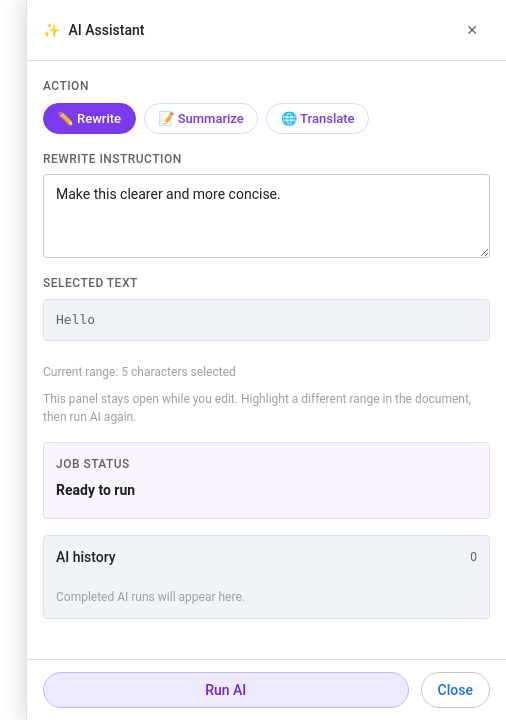
Test: AiPanel › cancels an active stream without applying anything
Click the button with test id "ai-run": [226, 690] box [43, 672, 409, 708]
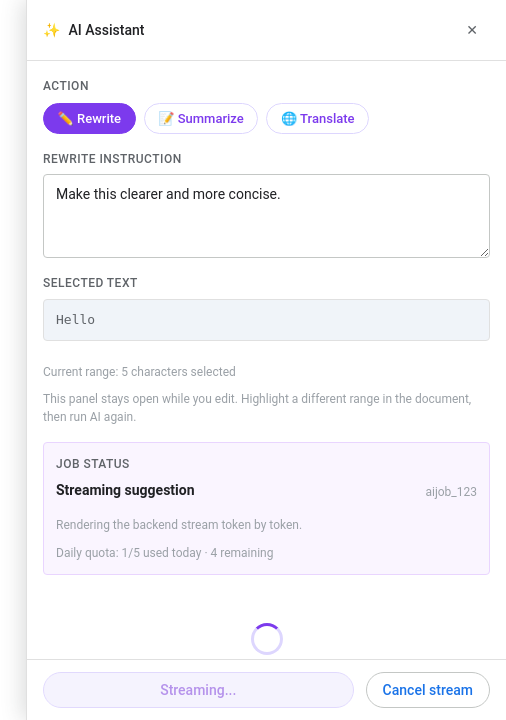
Expected: the button "Cancel stream" is shown
Click the button "Cancel stream": [428, 690] box [366, 672, 490, 708]
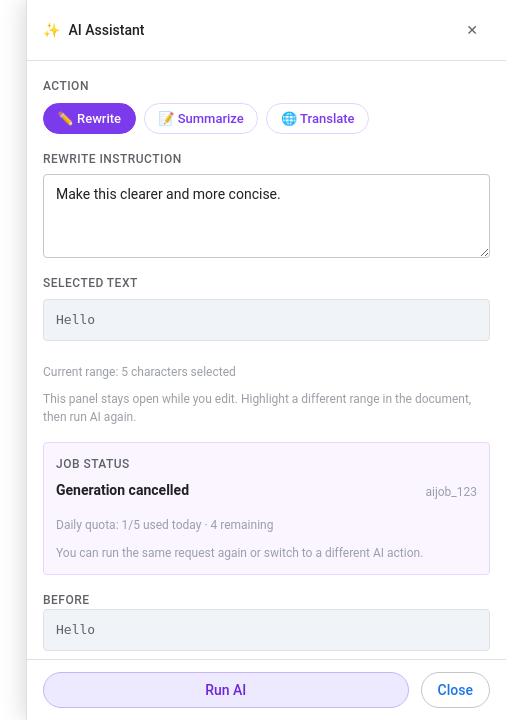
Expected: the text "Generation cancelled" is shown, [56, 480, 189, 501]
